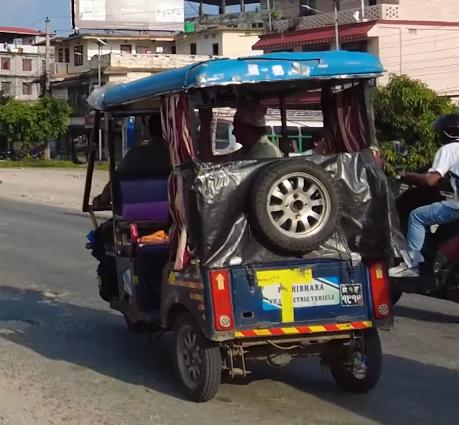e-rickshaw: (88, 44, 386, 403)
